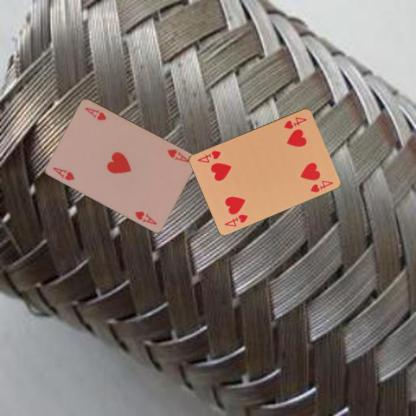4h: (222, 211, 249, 228), (281, 114, 308, 130)
Ah: (164, 147, 190, 164), (50, 165, 75, 182)
